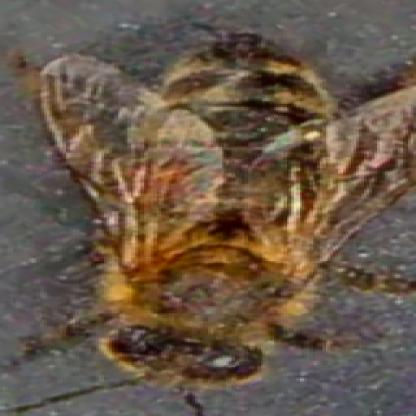bee: (100, 33, 330, 398)
